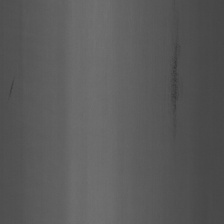oil_spot: (163, 38, 189, 135)
